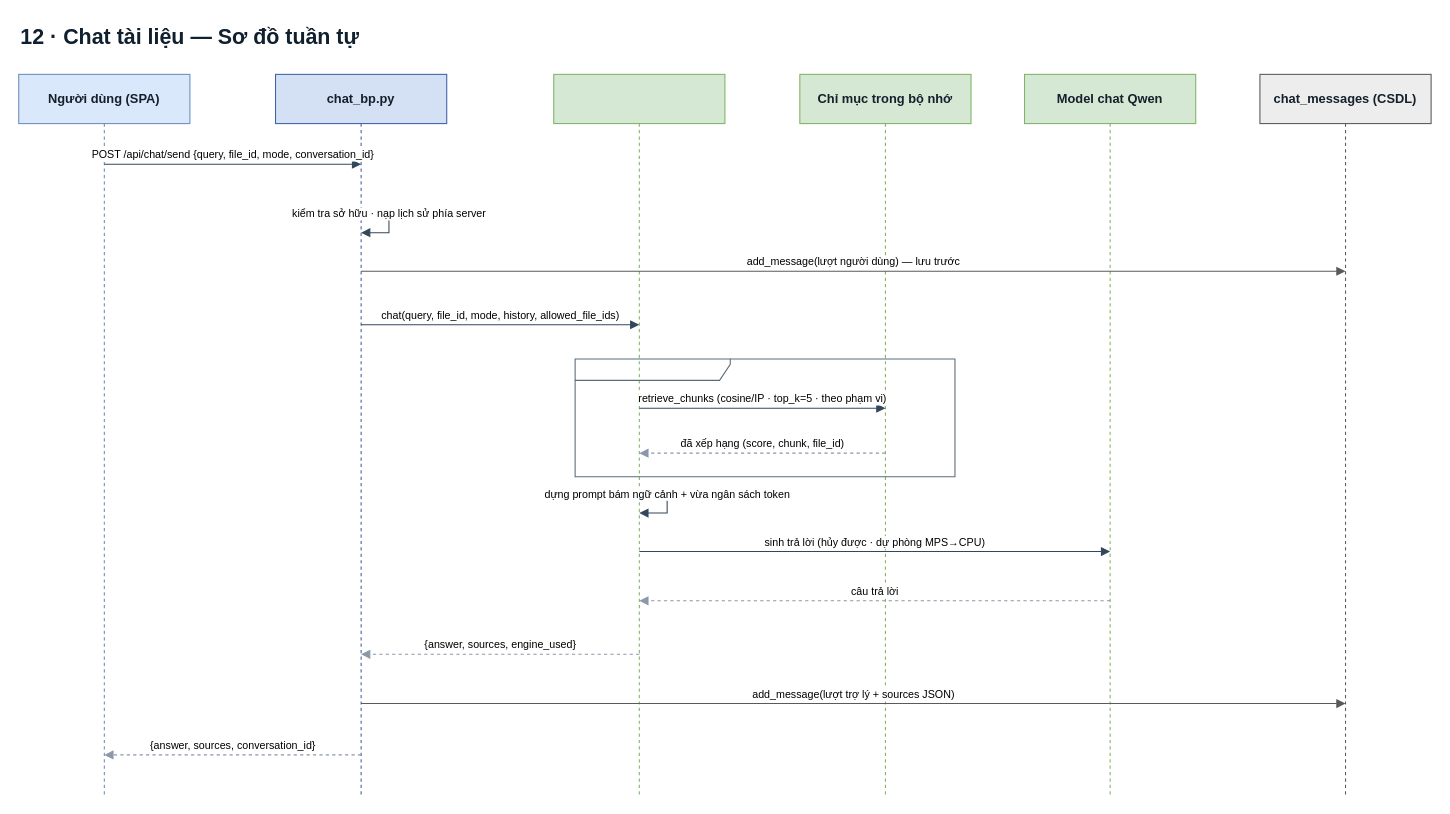
Some shapes in this 1450 by 814 pixel diagram are drawn without their labels. The centre of each missing label's shape, as x and y in pixels:
"alt [mode != general]" goes at [764,417].
"chat_service.py" goes at [639,434].
